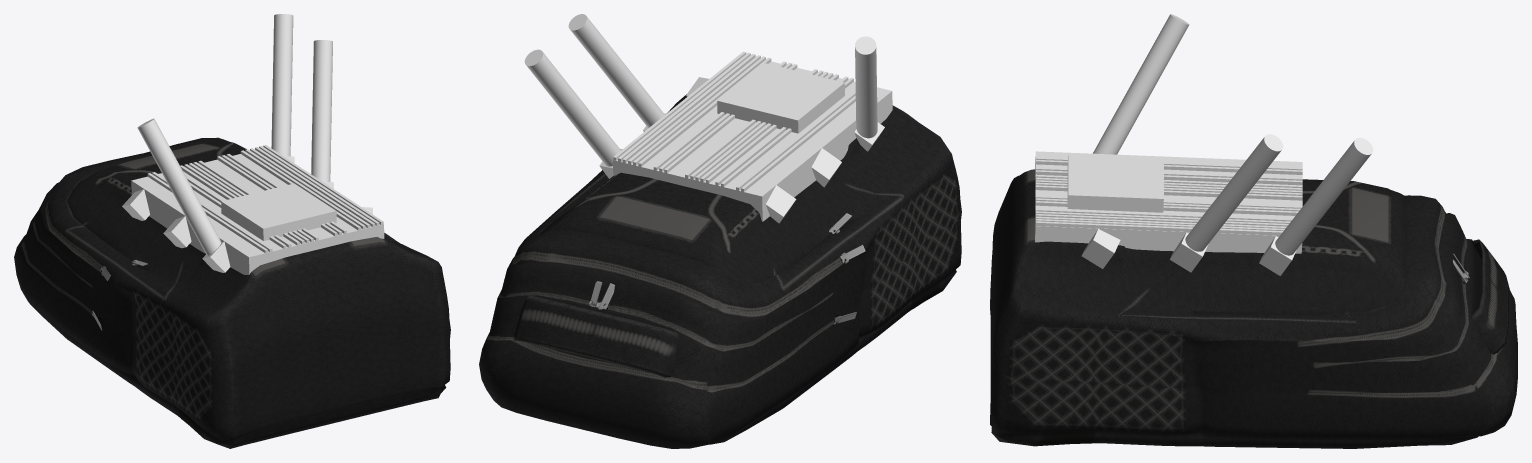
File: jammer destroyed ground.fbx
3 renders of one model, left to right at view 1: azimuth 30°, elevation 25°; view 2: azimuth 150°, elevation 25°; view 3: azimuth 270°, elevation 25°, orthographic. The views are drawn at different scales.
Parts seen in each view (by area): view 1: LaptopBag.016; view 2: LaptopBag.016; view 3: LaptopBag.016.
Boxes of the visible parts, x1,y1,x2,y2 form: LaptopBag.016: [14, 14, 450, 448]; LaptopBag.016: [479, 14, 961, 448]; LaptopBag.016: [990, 14, 1517, 448].
Bounding box in the file's own units: 29.46 × 31.32 × 47.43.
